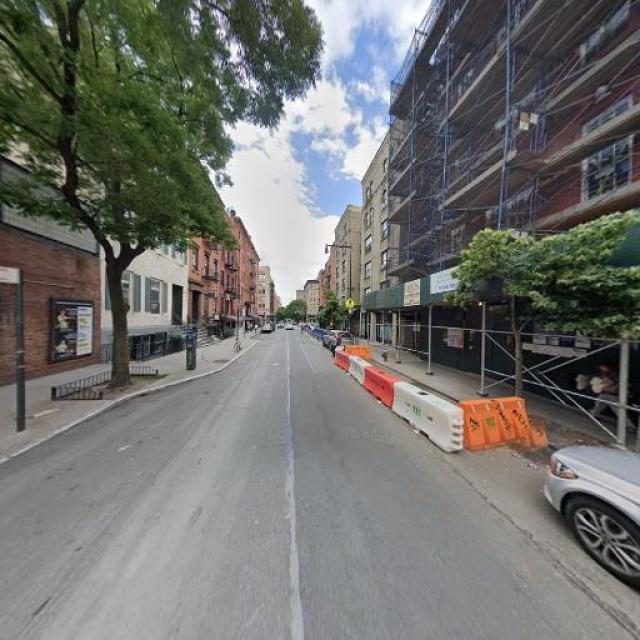Building: (404, 1, 640, 399), (1, 164, 99, 388), (363, 113, 400, 345)
